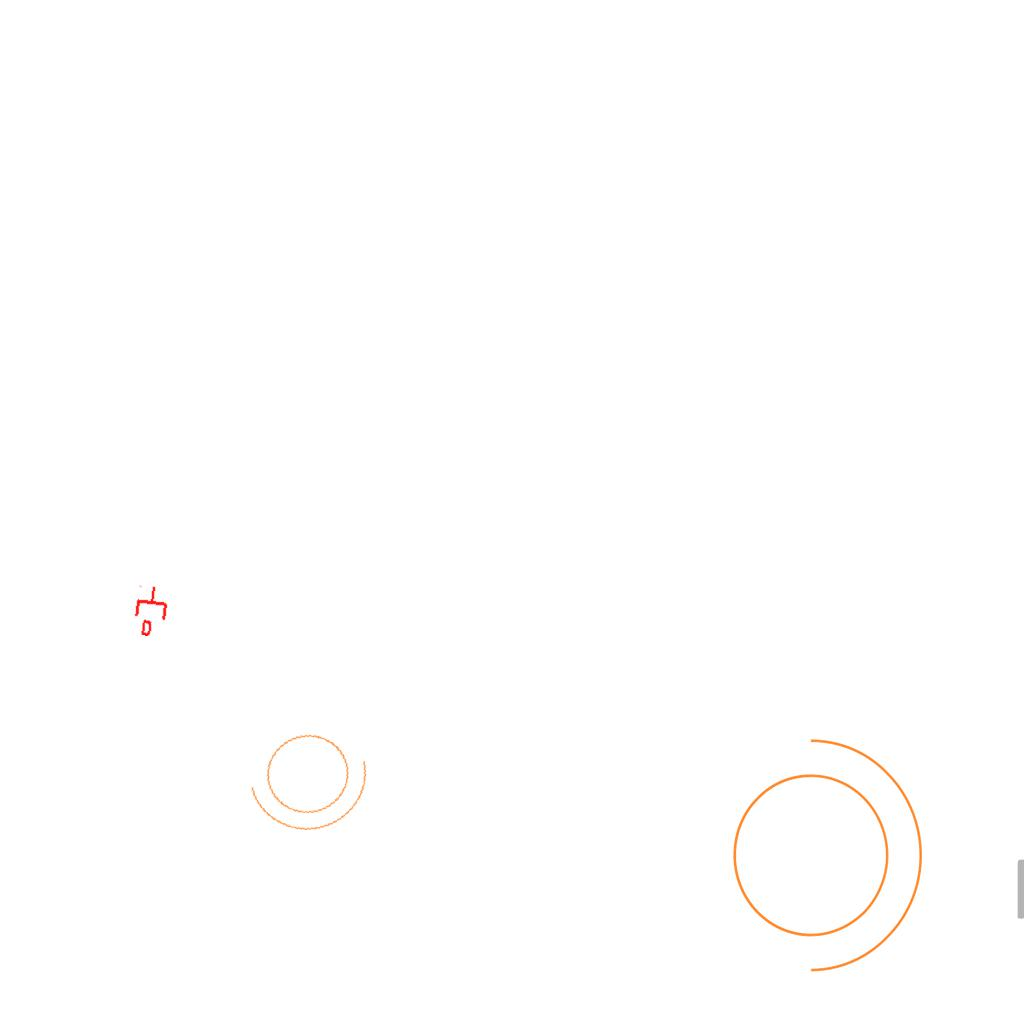Datenanschluss_einfach: (131, 584, 171, 638)
Scheinwerfer_fuer_Alarmbeleuchtung: (708, 717, 933, 981), (235, 708, 389, 848)
